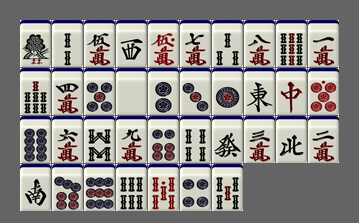0m: (148, 20, 179, 67)
0p: (308, 68, 339, 115)
0s: (148, 164, 179, 211)
1m: (308, 20, 339, 67)
1p: (212, 68, 243, 115)
1s: (20, 20, 51, 67)
1z: (244, 68, 275, 115)
2m: (308, 116, 339, 163)
2p: (148, 68, 179, 115)
2s: (52, 20, 83, 67)
2z: (20, 164, 51, 211)
3m: (244, 116, 275, 163)
3p: (180, 68, 211, 115)
3s: (212, 20, 243, 67)
3z: (116, 20, 147, 67)
4m: (52, 68, 83, 115)
4p: (180, 164, 211, 211)
4s: (180, 116, 211, 163)
4z: (276, 116, 307, 163)
5m: (84, 20, 115, 67)
5p: (84, 68, 115, 115)
5s: (212, 164, 243, 211)
5z: (116, 68, 147, 115)
6m: (52, 116, 83, 163)
6p: (148, 116, 179, 163)
6s: (116, 164, 147, 211)
6z: (212, 116, 243, 163)
7m: (180, 20, 211, 67)
7p: (52, 164, 83, 211)
7s: (20, 68, 51, 115)
7z: (276, 68, 307, 115)
8m: (244, 20, 275, 67)
8p: (20, 116, 51, 163)
8s: (84, 116, 115, 163)
9m: (116, 116, 147, 163)
9p: (84, 164, 115, 211)
9s: (276, 20, 307, 67)
